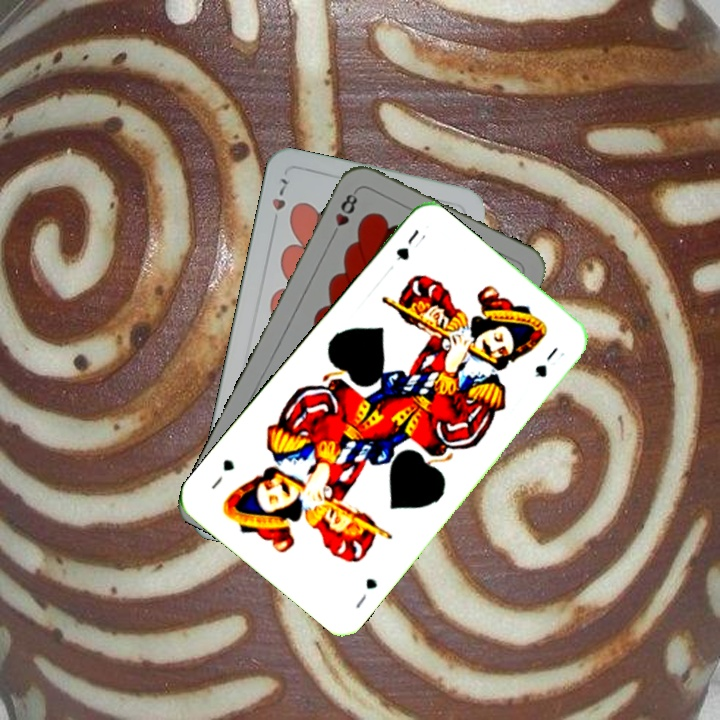GU: (391, 225, 422, 263), (351, 574, 380, 612)
H7: (268, 174, 291, 230)
H8: (327, 186, 360, 242)
